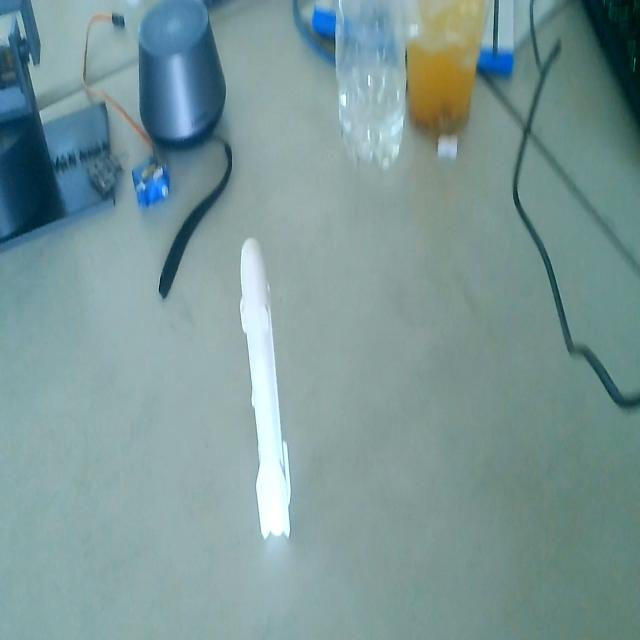Rocket: (238, 231, 298, 548)
